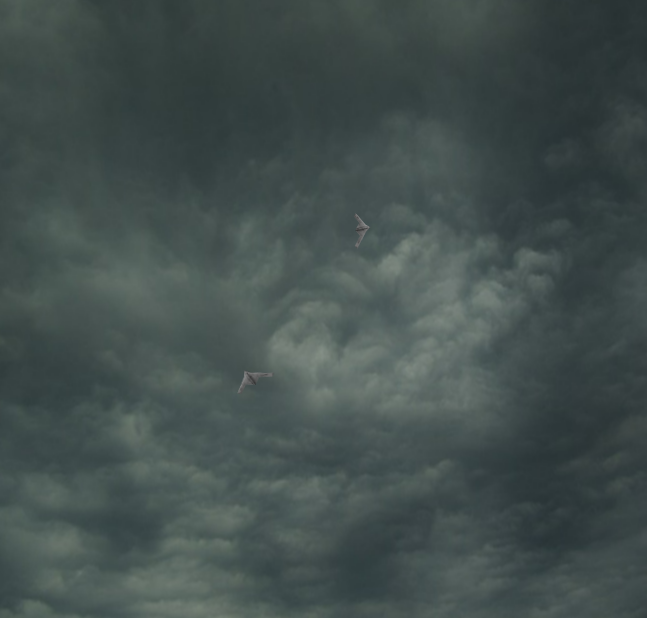military drone: (236, 370, 272, 393), (353, 212, 370, 248)
